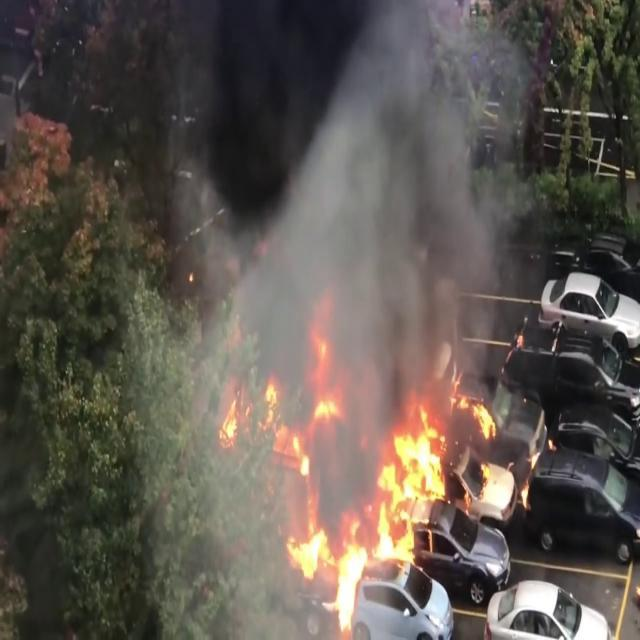Fire: (372, 367, 518, 557), (288, 488, 370, 640)
Smoke: (158, 0, 526, 382)
